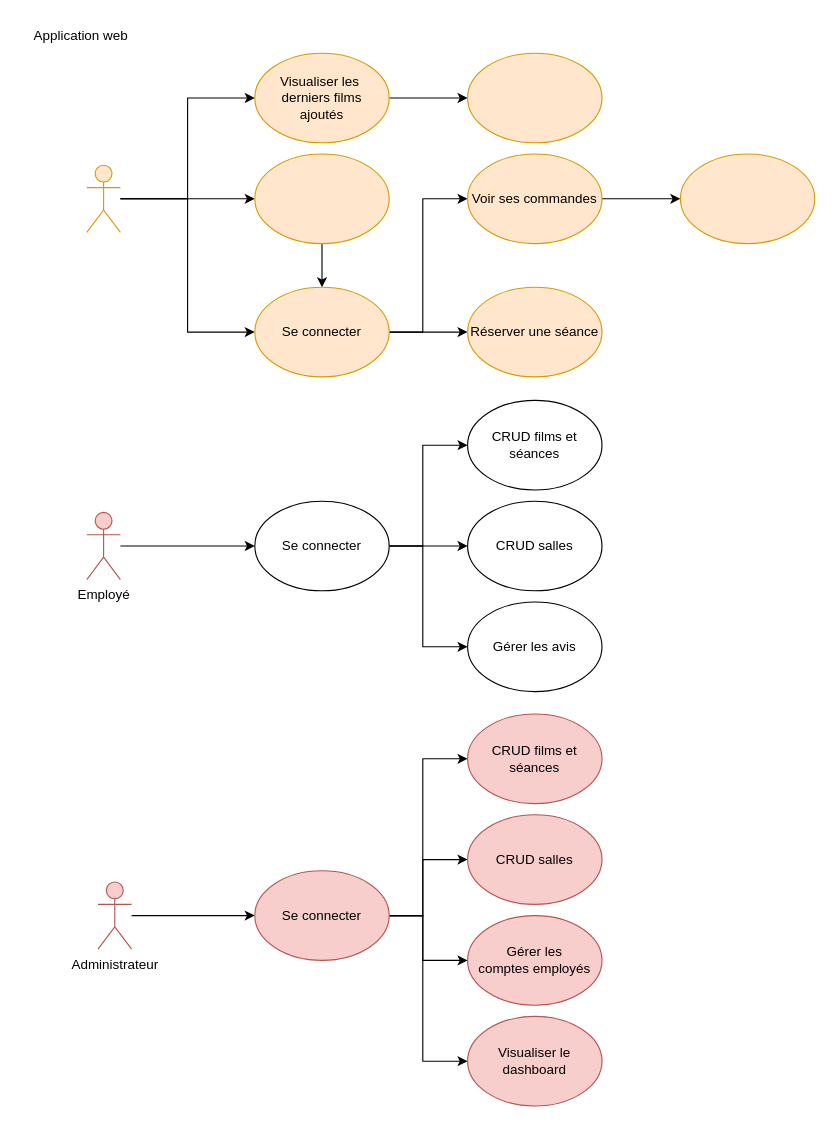
This 834x1126 diagram has some shape labels left out. Here are the shapes that lost their labels. From the top down, the centre of each, then its label:
At (534,97): "Voir les séances".
At (103,198): "Visiteur".
At (321,198): "Créer un compte".
At (747,198): "Noter un film vu".
